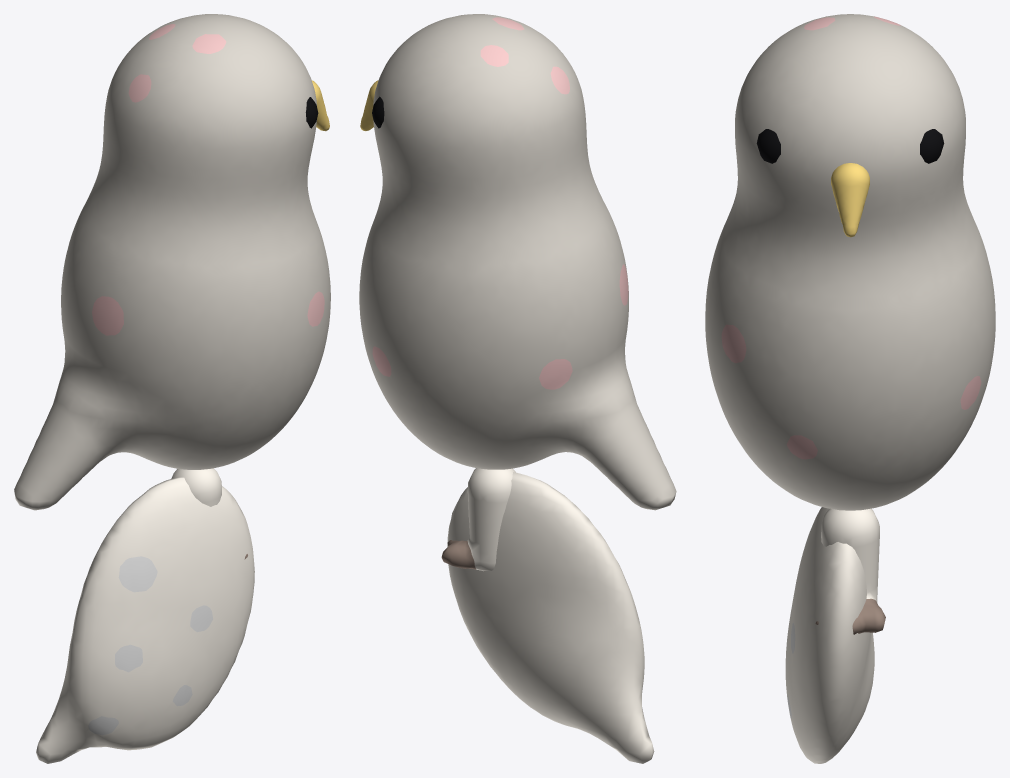
File: snowyOwl_adult.glb
3 views of the same model, side by side, from view 1: azimuth 30°, elevation 25°; view 2: azimuth 150°, elevation 25°; view 3: azimuth 270°, elevation 25° (orthographic). The views are drawn at different scales.
Parts seen in each view (by area): view 1: body, wing, leg; view 2: body, wing, leg; view 3: body, wing, leg, beak, eye.
Part boxes in pixels (x1=…): body: x1=14, y1=14, x2=330, y2=510; wing: x1=36, y1=477, x2=254, y2=763; leg: x1=171, y1=468, x2=247, y2=559; body: x1=359, y1=14, x2=676, y2=510; wing: x1=447, y1=472, x2=654, y2=763; leg: x1=441, y1=468, x2=515, y2=571; body: x1=705, y1=14, x2=995, y2=510; wing: x1=785, y1=507, x2=874, y2=763; leg: x1=815, y1=508, x2=885, y2=634; beak: x1=831, y1=163, x2=869, y2=237; eye: x1=756, y1=129, x2=944, y2=163.
Size of the model in its own units: 1.22 by 2.6 by 0.8796.
